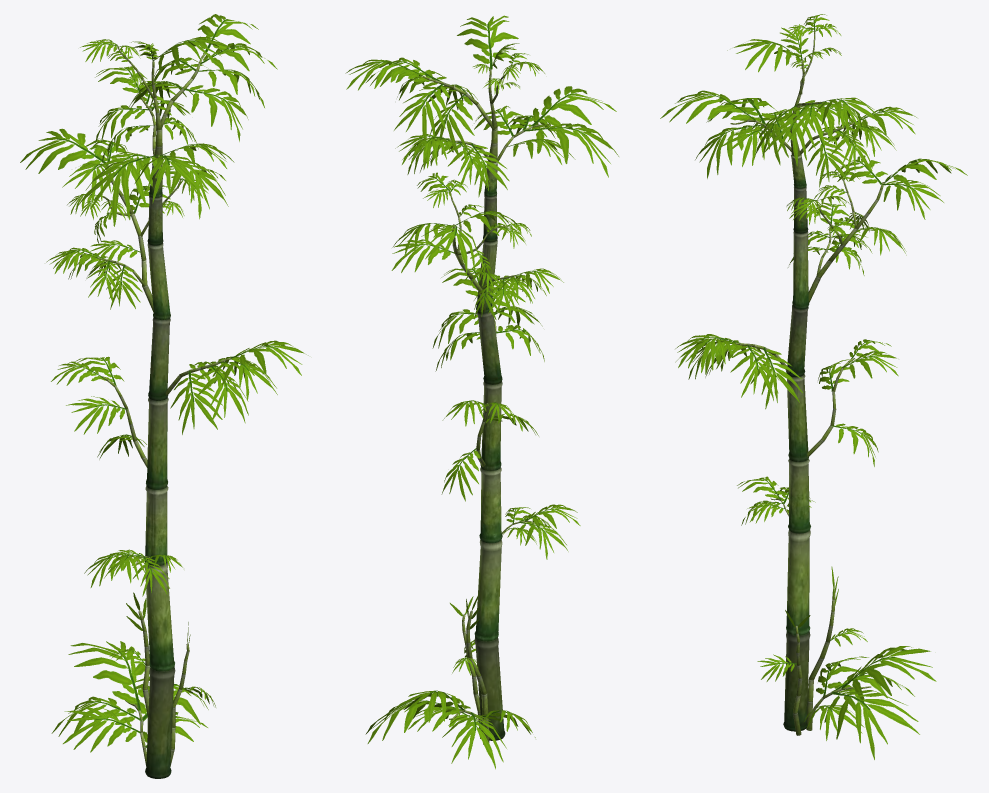
Rendered from bamboo_b.glb.
The picture shows the model from 3 angles, left to right: view 1: azimuth 30°, elevation 25°; view 2: azimuth 150°, elevation 25°; view 3: azimuth 270°, elevation 25°; orthographic projection. The views are drawn at different scales.
Parts seen in each view (by area): view 1: Forest_bamboo_b; view 2: Forest_bamboo_b; view 3: Forest_bamboo_b.
Boxes of the visible parts, box(x1,y1,x2,y2) form: Forest_bamboo_b: box(20, 14, 308, 778); Forest_bamboo_b: box(345, 15, 618, 769); Forest_bamboo_b: box(660, 14, 967, 759).
Bounding box in the file's own units: 2.77 × 8.28 × 3.43.
3 materials, 3 textured.
